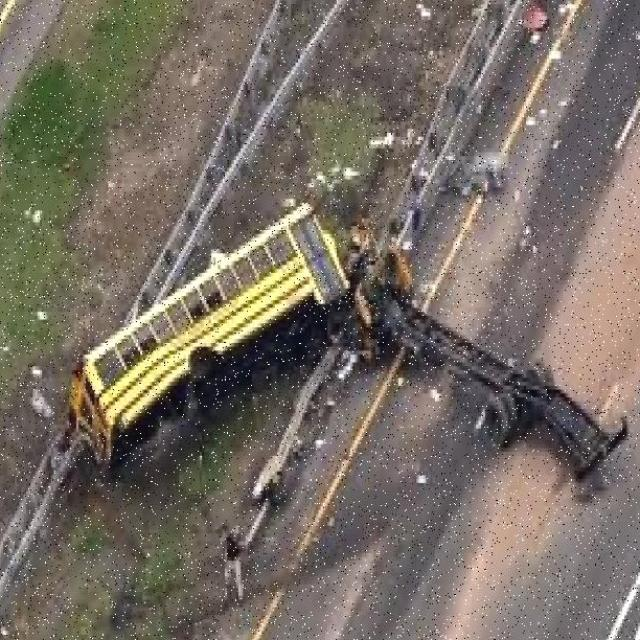accident: (56, 196, 638, 516)
